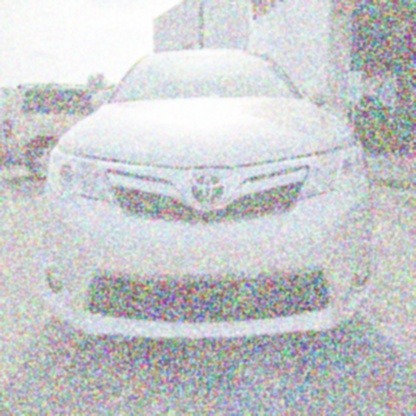Vehicle: (41, 47, 378, 348)
